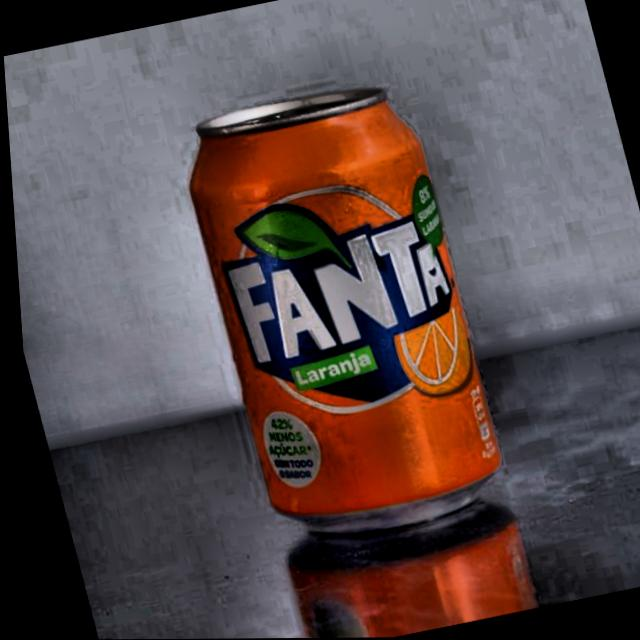Cans: (155, 55, 523, 572)
